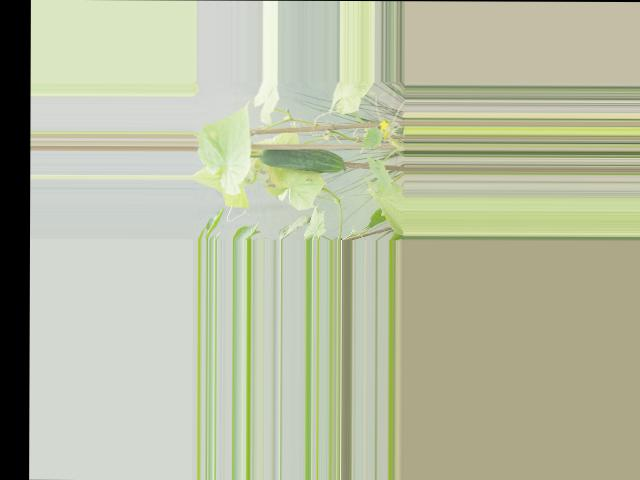cucumber: (259, 148, 345, 173)
